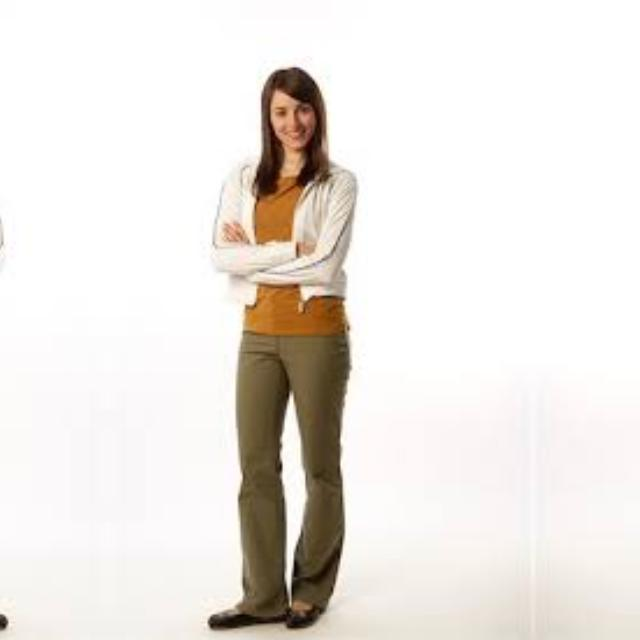person: (206, 69, 362, 632), (0, 68, 8, 631)
